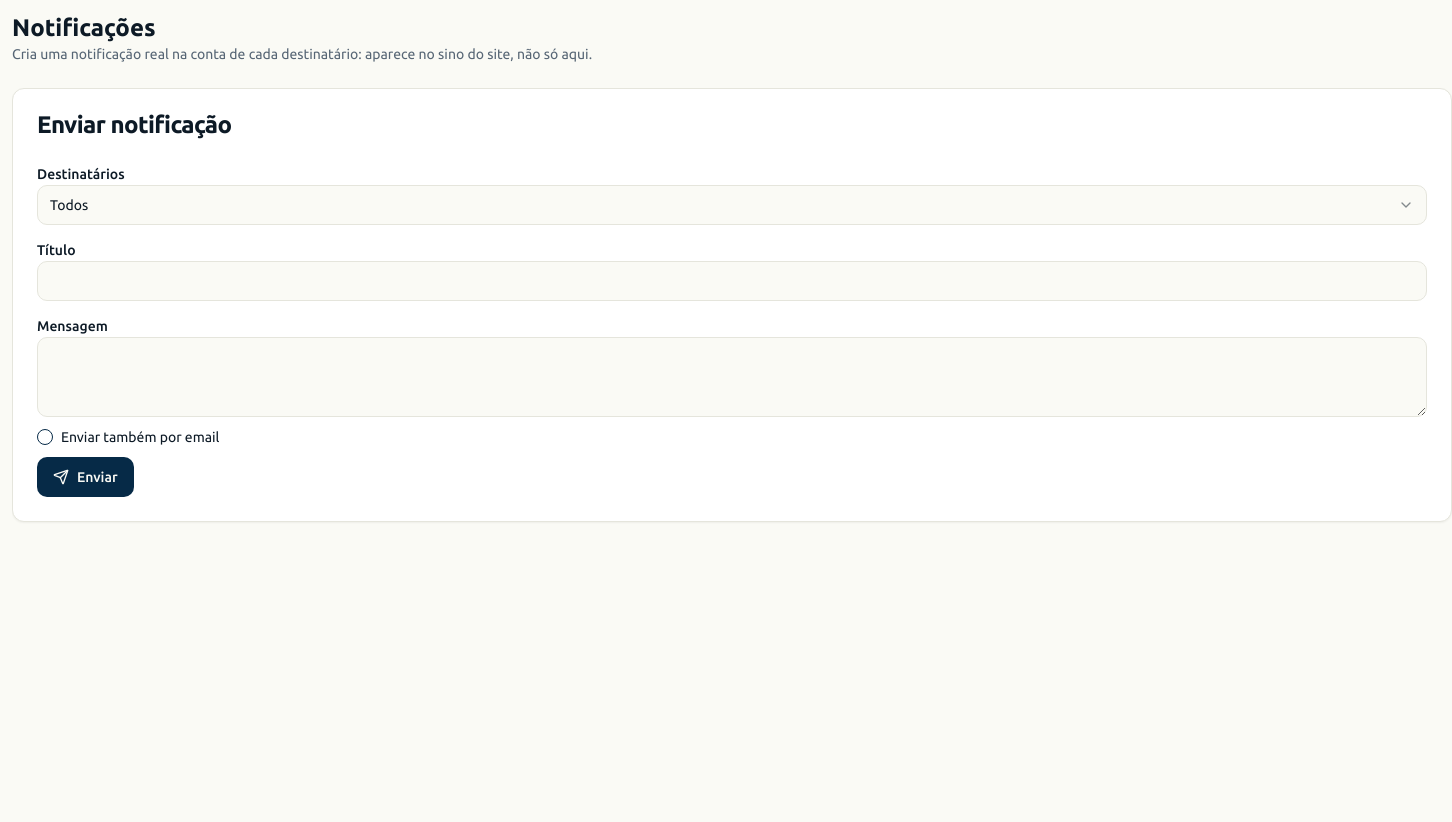
AdminNotifications › mostra sucesso com a contagem real de destinatários
Type "Manutenção" into the field labelled "Título". click: (732, 281)
box: [37,261,1427,301]
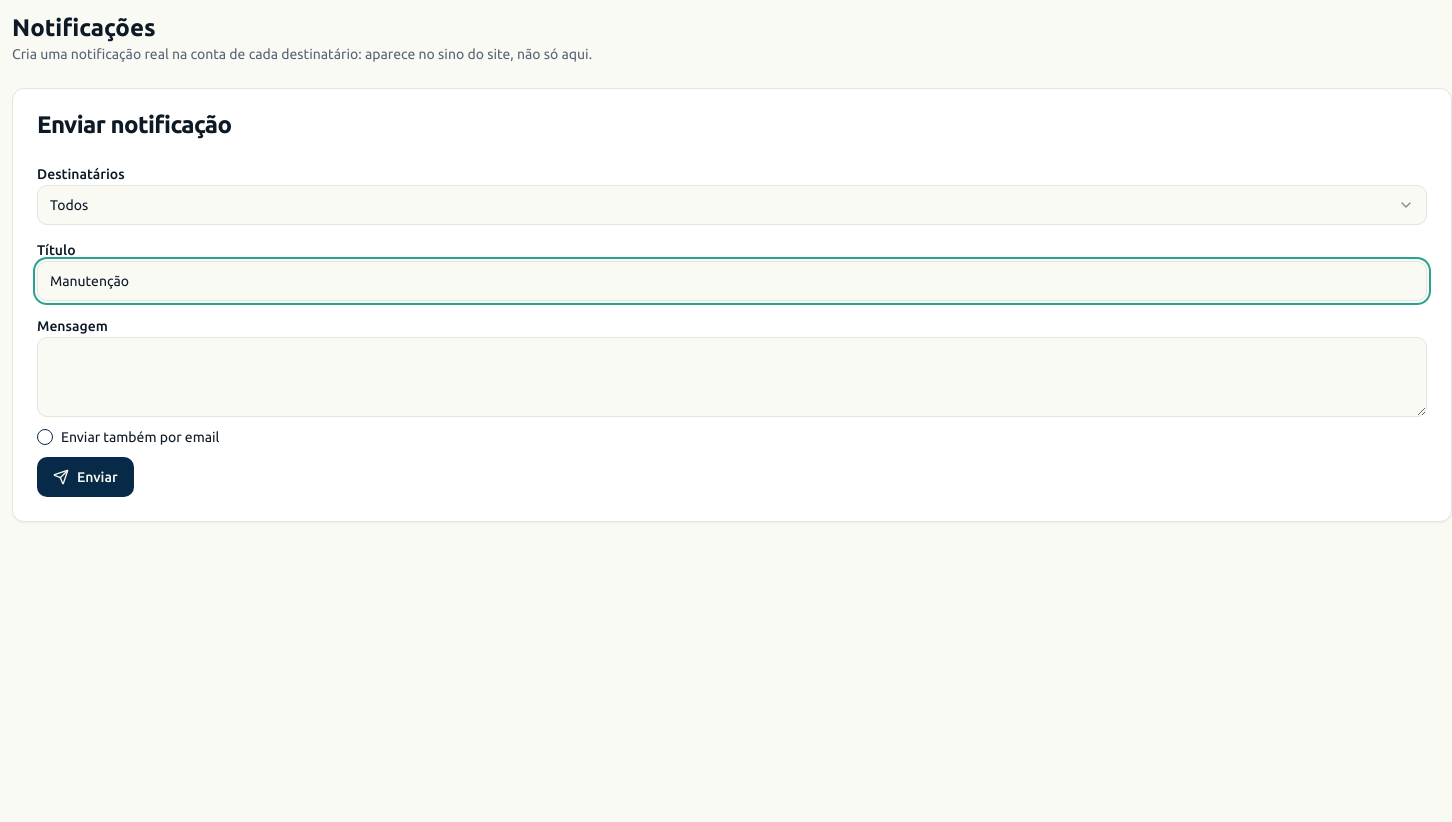
Type "O site vai estar em baixo." into the text box labelled "Mensagem". click: (732, 377)
box: [37,337,1427,417]
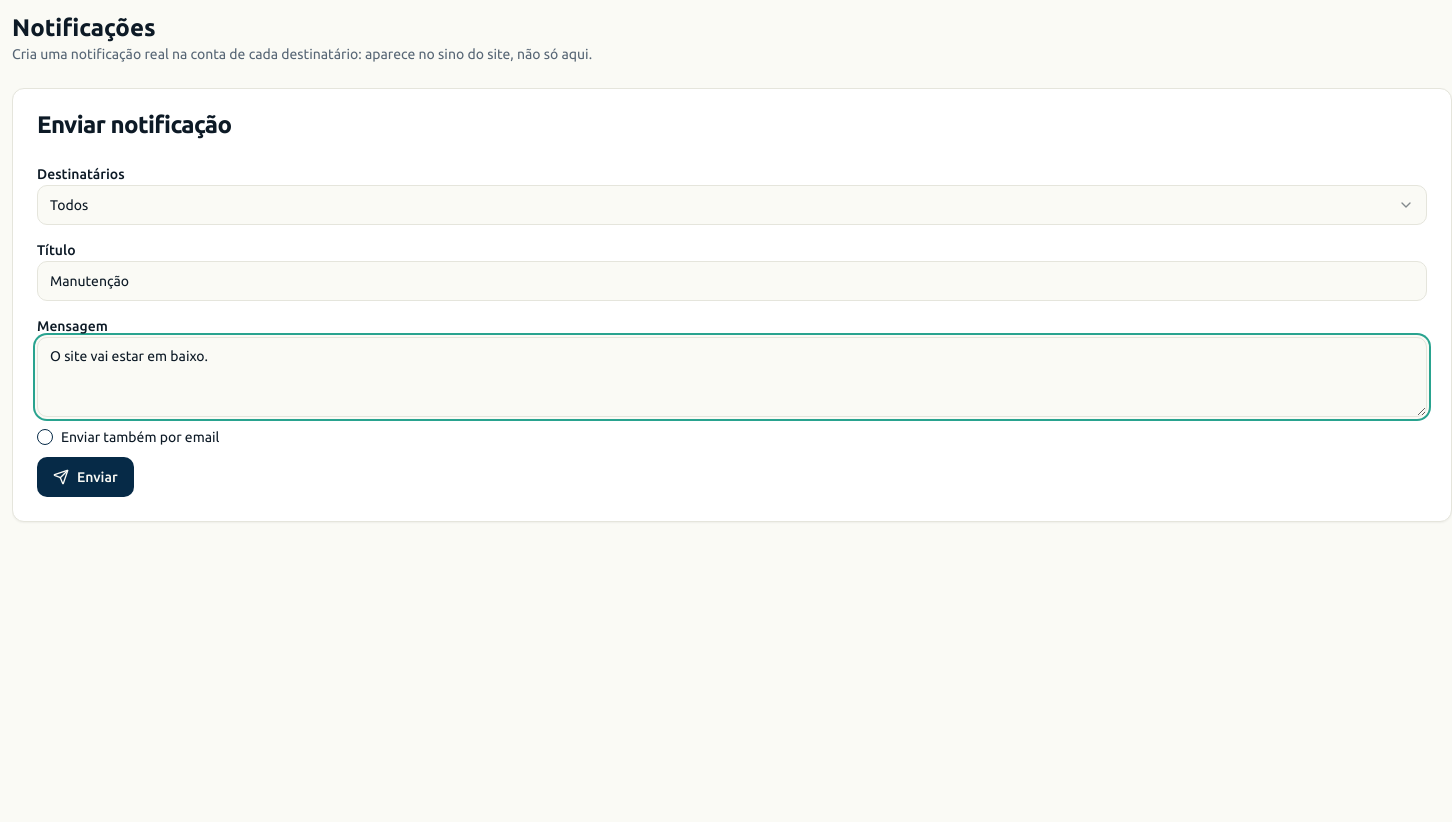
Click the button "Enviar". click: (85, 477)
box: [37,457,134,497]
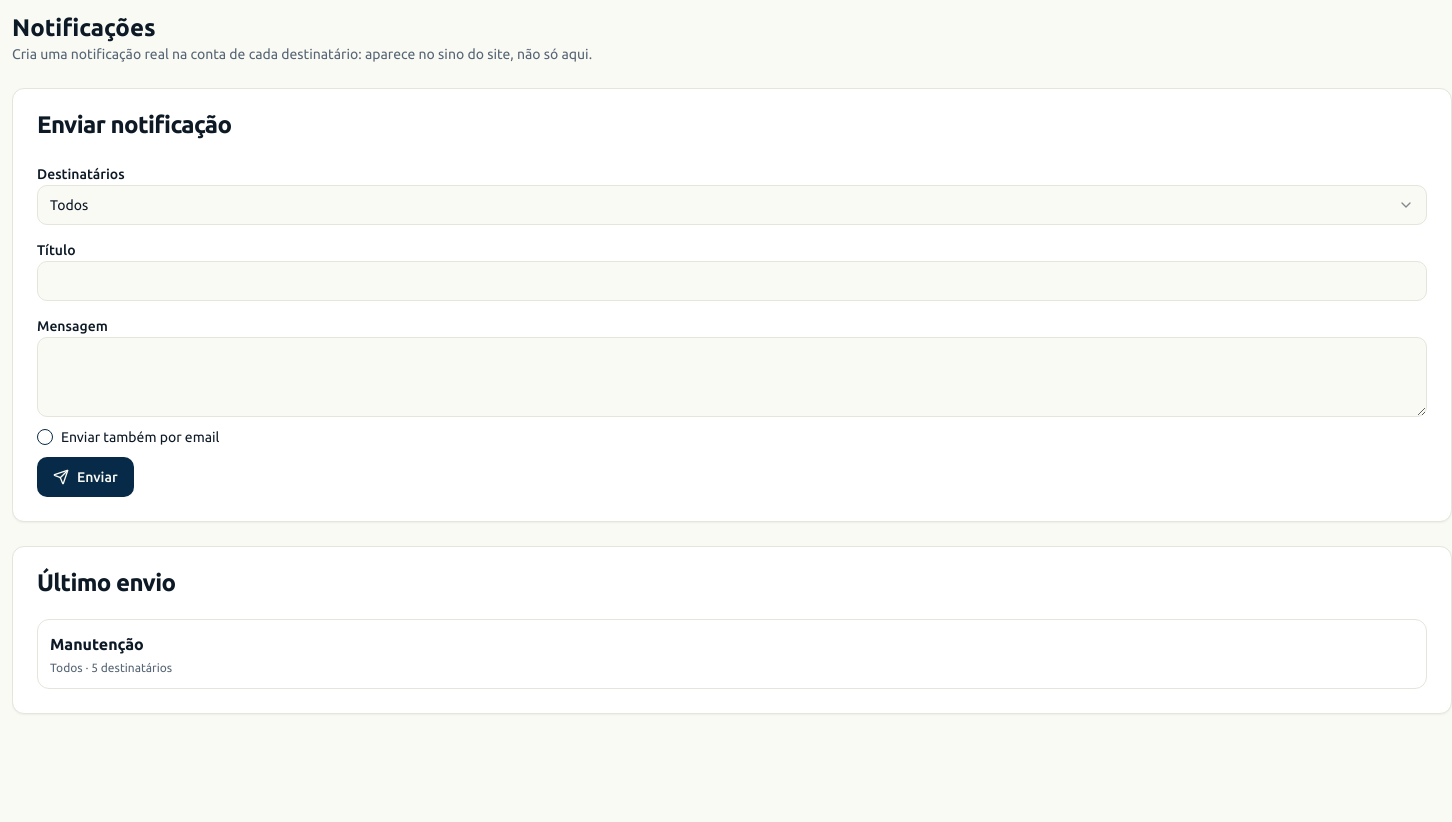
expect the text "Manutenção" is shown: met, box [50,635,144,653]
